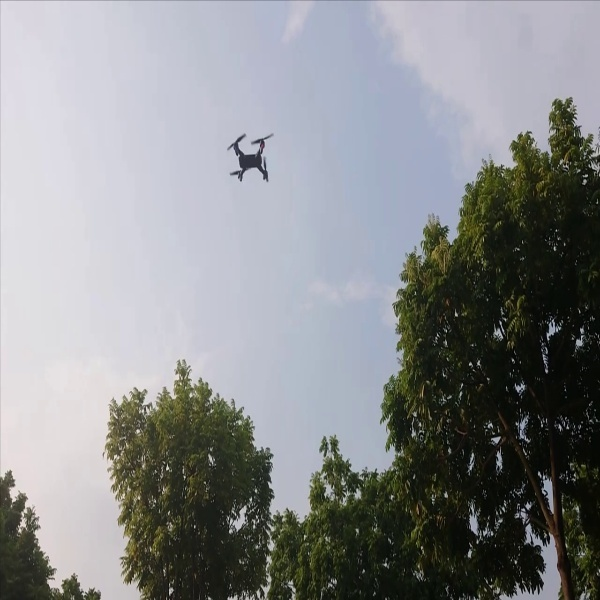drone: (215, 127, 280, 190)
